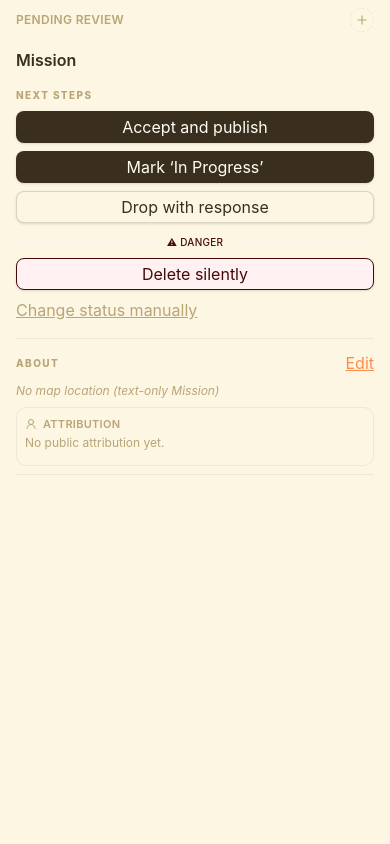
Test case: MissionDetailSheet — Mark In Progress button › shows amber conflict prompt when another mission is already in progress
This screenshot has width=390, height=844.
Click the button "Mark ‘In Progress’": (195,167) [16,151,374,183]
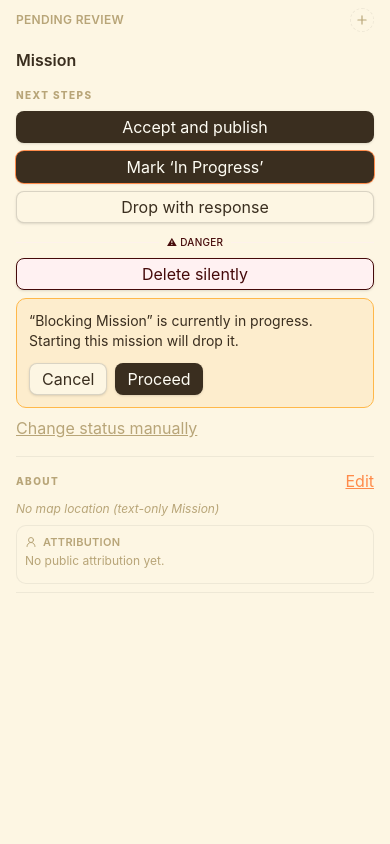
Expected: the text "Blocking Mission" is shown, [35,312,147,329]
